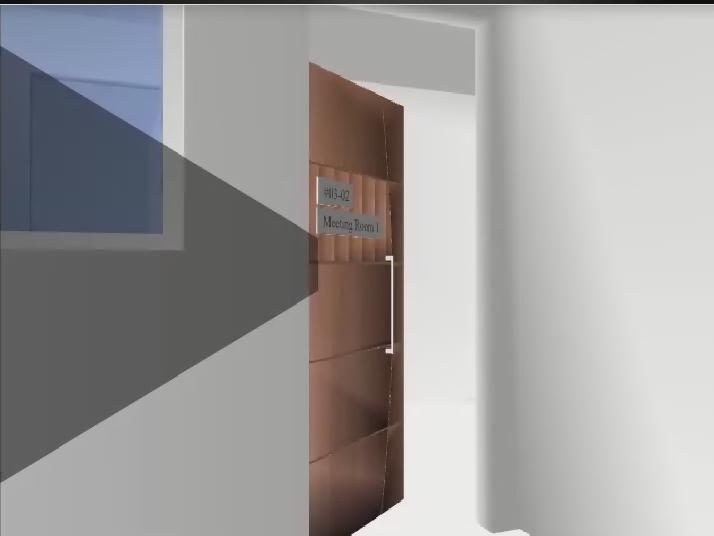door: (309, 63, 404, 536)
